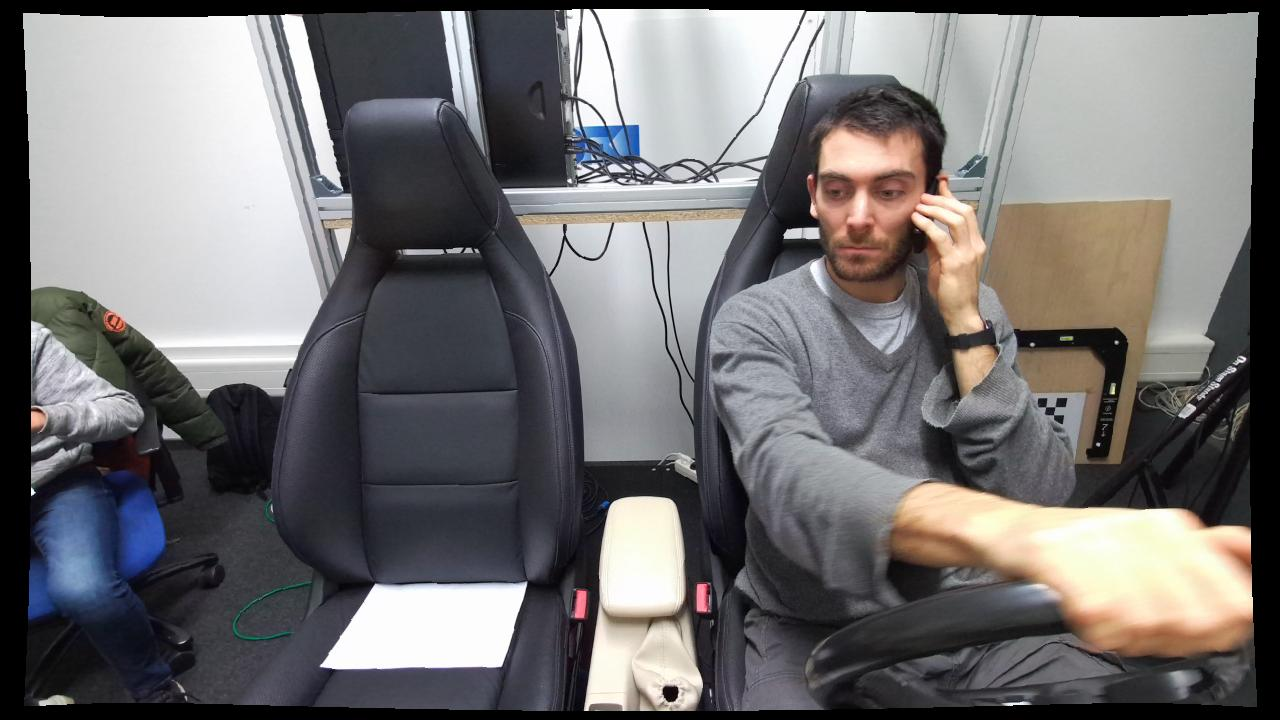Distracted: (699, 73, 1118, 708)
PhoneUse: (888, 174, 977, 254)
